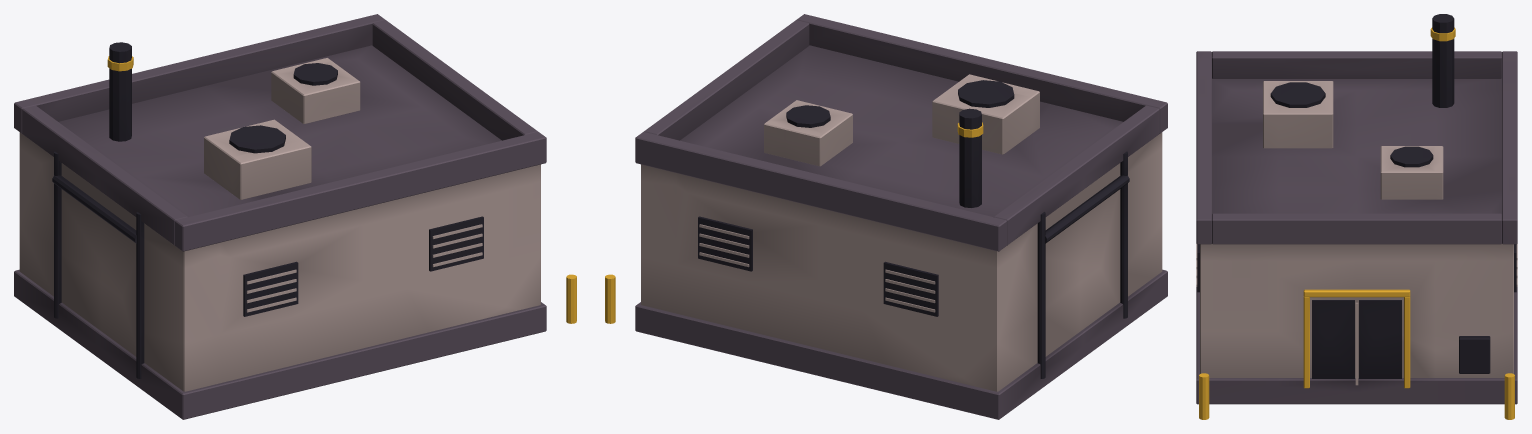
3 renders of one model, left to right at view 1: azimuth 30°, elevation 25°; view 2: azimuth 150°, elevation 25°; view 3: azimuth 270°, elevation 25°, orthographic. The views are drawn at different scales.
Parts seen in each view (by area): view 1: body_pal_asphalt, body_pal_sidewalk, body_pal_uiDark, body_pal_schoolBusYellow; view 2: body_pal_asphalt, body_pal_sidewalk, body_pal_uiDark, body_pal_schoolBusYellow; view 3: body_pal_asphalt, body_pal_sidewalk, body_pal_uiDark, body_pal_schoolBusYellow.
Part boxes in pixels (x1,y1,x2,y2): body_pal_asphalt: [14, 14, 546, 419]; body_pal_sidewalk: [19, 58, 540, 391]; body_pal_uiDark: [52, 42, 483, 378]; body_pal_schoolBusYellow: [107, 56, 576, 323]; body_pal_asphalt: [635, 14, 1167, 419]; body_pal_sidewalk: [641, 74, 1162, 391]; body_pal_uiDark: [698, 80, 1129, 378]; body_pal_schoolBusYellow: [605, 122, 983, 323]; body_pal_asphalt: [1196, 51, 1517, 404]; body_pal_sidewalk: [1196, 81, 1517, 385]; body_pal_uiDark: [1197, 14, 1516, 378]; body_pal_schoolBusYellow: [1199, 27, 1514, 419].
Bounding box in the file's own units: 11.25 × 7 × 8.2.
